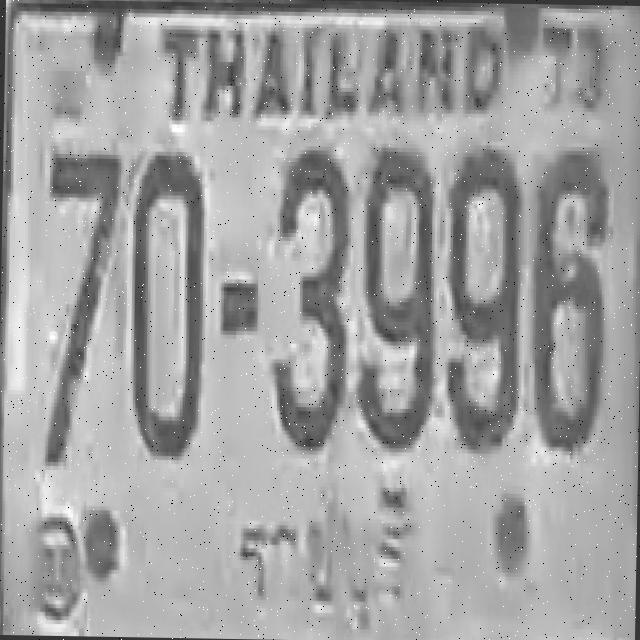0: (126, 149, 205, 458)
3: (268, 146, 349, 451)
6: (528, 146, 609, 452)
7: (42, 147, 121, 460), (44, 150, 121, 352)
9: (356, 144, 437, 452), (443, 145, 522, 450)
Ratchaburi: (222, 476, 429, 633)
